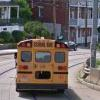Bus: (10, 36, 71, 93)
